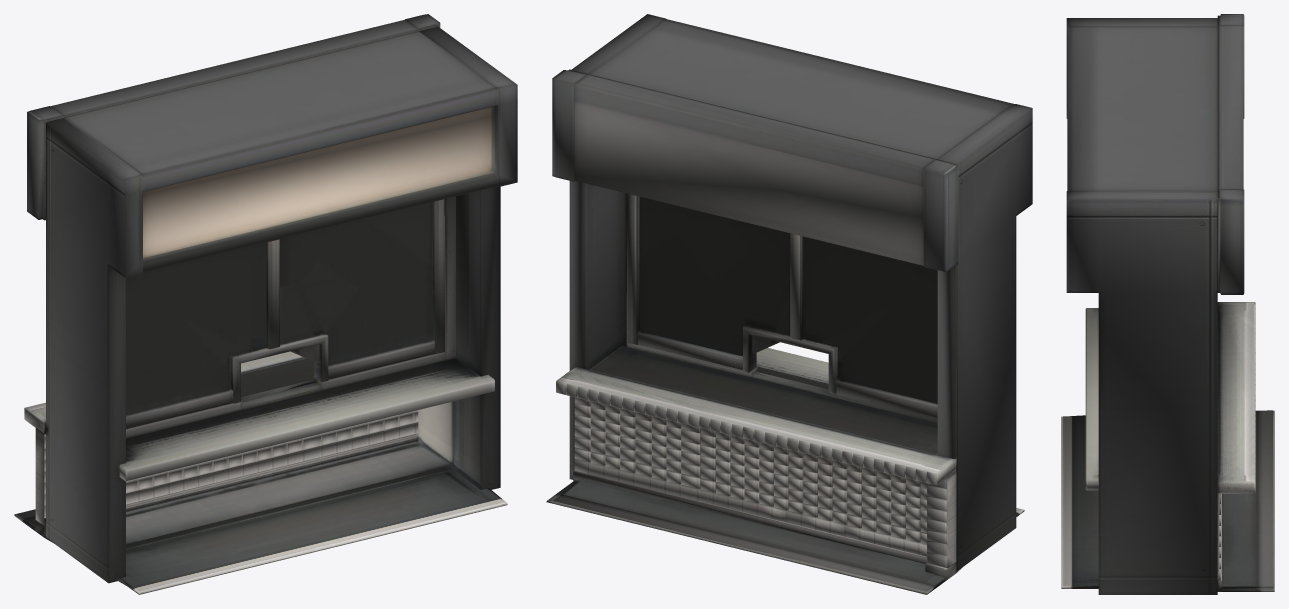
Rendered from merchant-pickup-window.glb.
3 renders of one model, left to right at view 1: azimuth 30°, elevation 25°; view 2: azimuth 150°, elevation 25°; view 3: azimuth 270°, elevation 25°, orthographic. The views are drawn at different scales.
Visible parts, largest first — view 1: tripo_node_d32df56e-c87b-4dc6-ab7d-1d579a5d7748; view 2: tripo_node_d32df56e-c87b-4dc6-ab7d-1d579a5d7748; view 3: tripo_node_d32df56e-c87b-4dc6-ab7d-1d579a5d7748.
Boxes of the visible parts, box(x1,y1,x2,y2) form: tripo_node_d32df56e-c87b-4dc6-ab7d-1d579a5d7748: box(14, 14, 517, 594); tripo_node_d32df56e-c87b-4dc6-ab7d-1d579a5d7748: box(546, 14, 1032, 594); tripo_node_d32df56e-c87b-4dc6-ab7d-1d579a5d7748: box(1061, 14, 1274, 594).
Size of the model in its own units: 0.998 by 0.9902 by 0.4824.
Materials: 1 (1 with a texture image).
